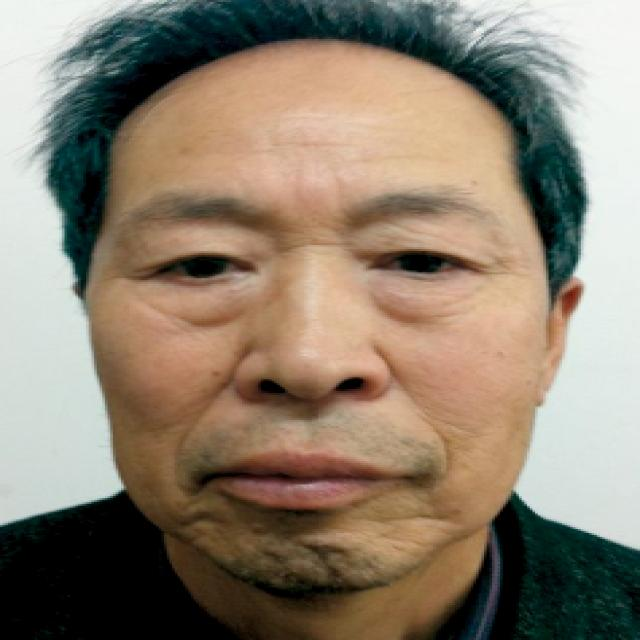normal_face: (88, 58, 544, 612)
